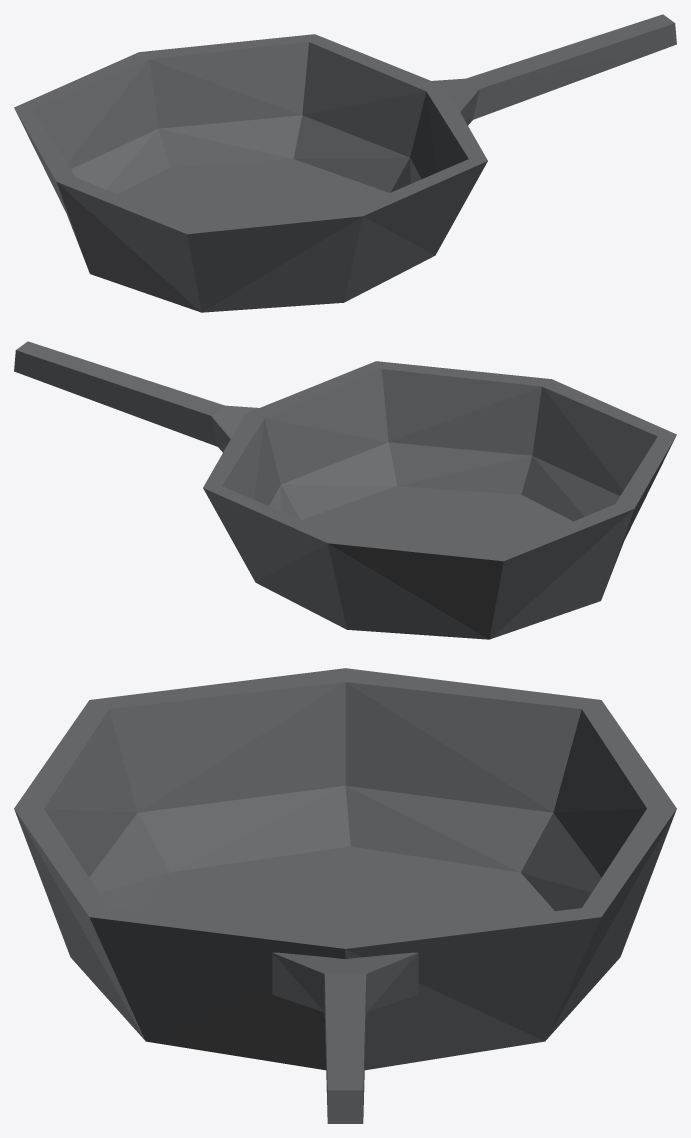
File: stainlessSteelSkillet.fbx
3 renders of one model, top to bottom at view 1: azimuth 30°, elevation 25°; view 2: azimuth 150°, elevation 25°; view 3: azimuth 270°, elevation 25°, orthographic. The views are drawn at different scales.
Parts seen in each view (by area): view 1: stainlessSteelSkillet; view 2: stainlessSteelSkillet; view 3: stainlessSteelSkillet.
Boxes of the visible parts, left/top/right/bottom form: stainlessSteelSkillet: left=14, top=14, right=676, bottom=312; stainlessSteelSkillet: left=14, top=341, right=676, bottom=639; stainlessSteelSkillet: left=14, top=668, right=676, bottom=1123.
Bounding box in the file's own units: 74.2 × 13.15 × 46.88.
1 material, 1 textured.
